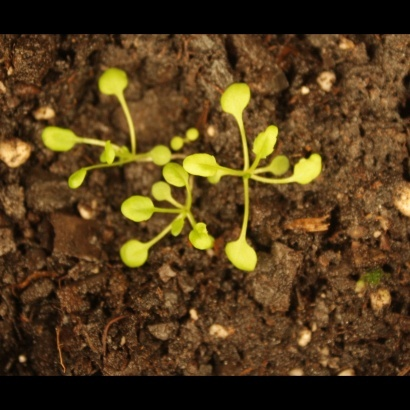leaf: (223, 228, 269, 275), (38, 117, 87, 156), (215, 77, 259, 119), (113, 237, 156, 274), (293, 147, 326, 192), (91, 66, 134, 96), (118, 194, 155, 227), (251, 121, 280, 162), (182, 155, 232, 178), (63, 160, 95, 193), (188, 219, 217, 253), (161, 161, 190, 192), (99, 139, 123, 169), (144, 146, 175, 169), (167, 212, 191, 240), (266, 154, 291, 178), (151, 180, 174, 203), (186, 122, 209, 145), (166, 131, 189, 154)
